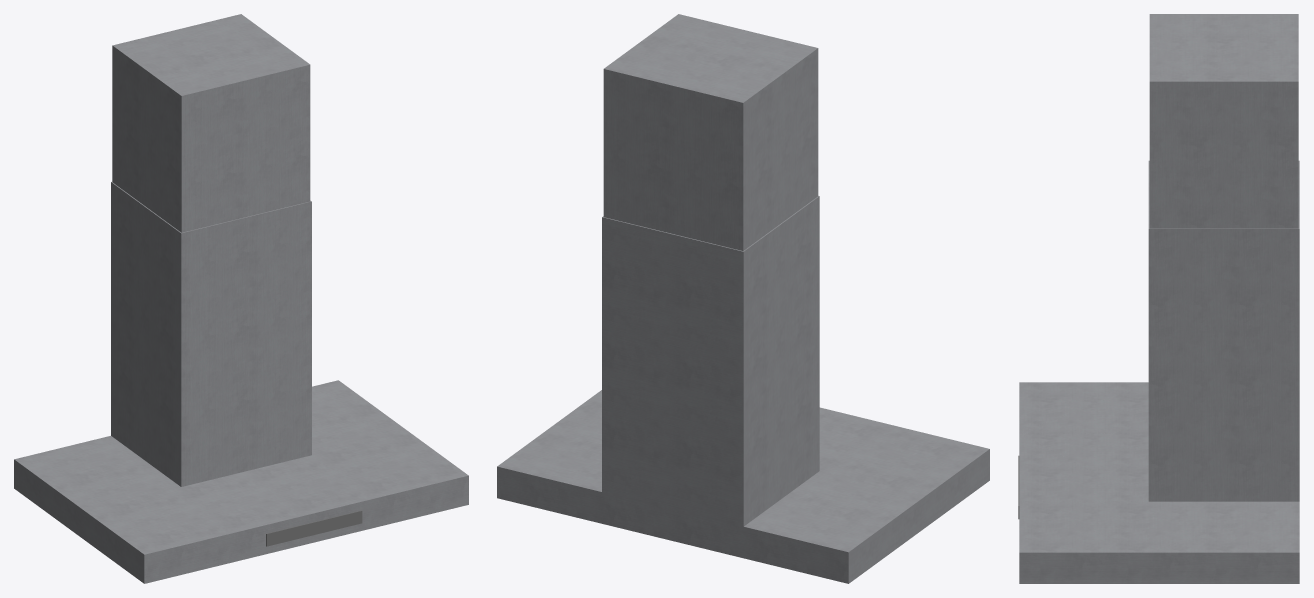
The model's file is HOOD-30.glb.
3 renders of one model, left to right at view 1: azimuth 30°, elevation 25°; view 2: azimuth 150°, elevation 25°; view 3: azimuth 270°, elevation 25°, orthographic. The views are drawn at different scales.
Visible parts, largest first — view 1: Cube; view 2: Cube; view 3: Cube.
Boxes of the visible parts, x1,y1,x2,y2 form: Cube: (14, 14, 468, 583); Cube: (497, 14, 989, 583); Cube: (1018, 14, 1299, 583).
Bounding box in the file's own units: 720 × 890 × 503.
Materials: 2 (1 with a texture image).
